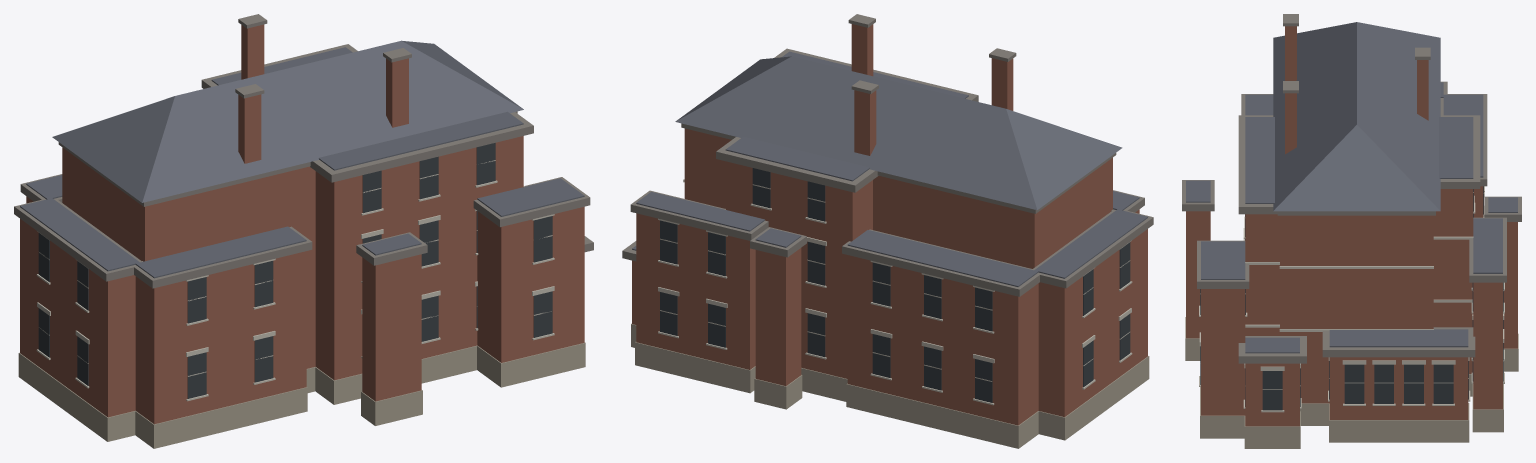
File: buckingham_house_2036_prairie__draft_1904.glb
3 views of the same model, side by side, from view 1: azimuth 30°, elevation 25°; view 2: azimuth 150°, elevation 25°; view 3: azimuth 270°, elevation 25° (orthographic). The views are drawn at different scales.
Parts seen in each view (by area): view 1: buckingham_house_2036_prairie__draft_1904; view 2: buckingham_house_2036_prairie__draft_1904; view 3: buckingham_house_2036_prairie__draft_1904.
Boxes of the visible parts, x1,y1,x2,y2 form: buckingham_house_2036_prairie__draft_1904: (14,14,593,448); buckingham_house_2036_prairie__draft_1904: (622,14,1153,448); buckingham_house_2036_prairie__draft_1904: (1182,14,1521,448).
Size of the model in its own units: 25.3 by 16.13 by 17.15.
